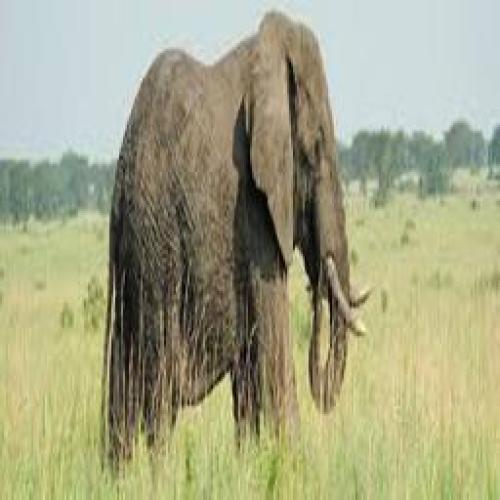african_elephant-endangered: (104, 10, 375, 470)
